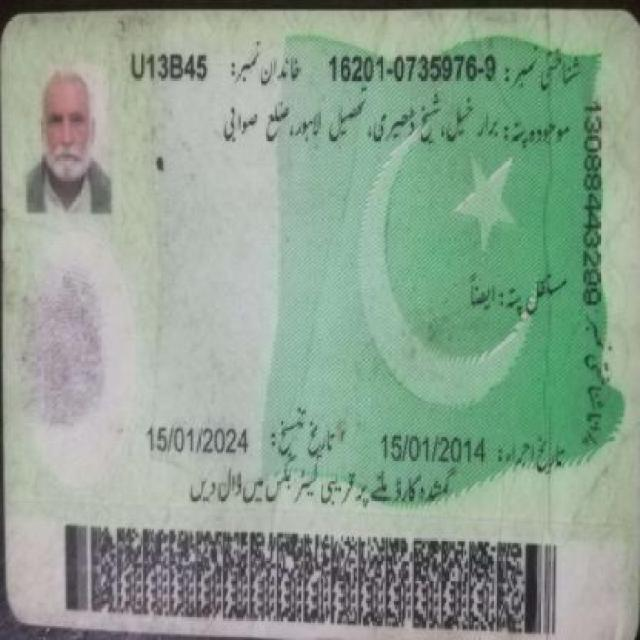Back: (5, 12, 620, 628)
